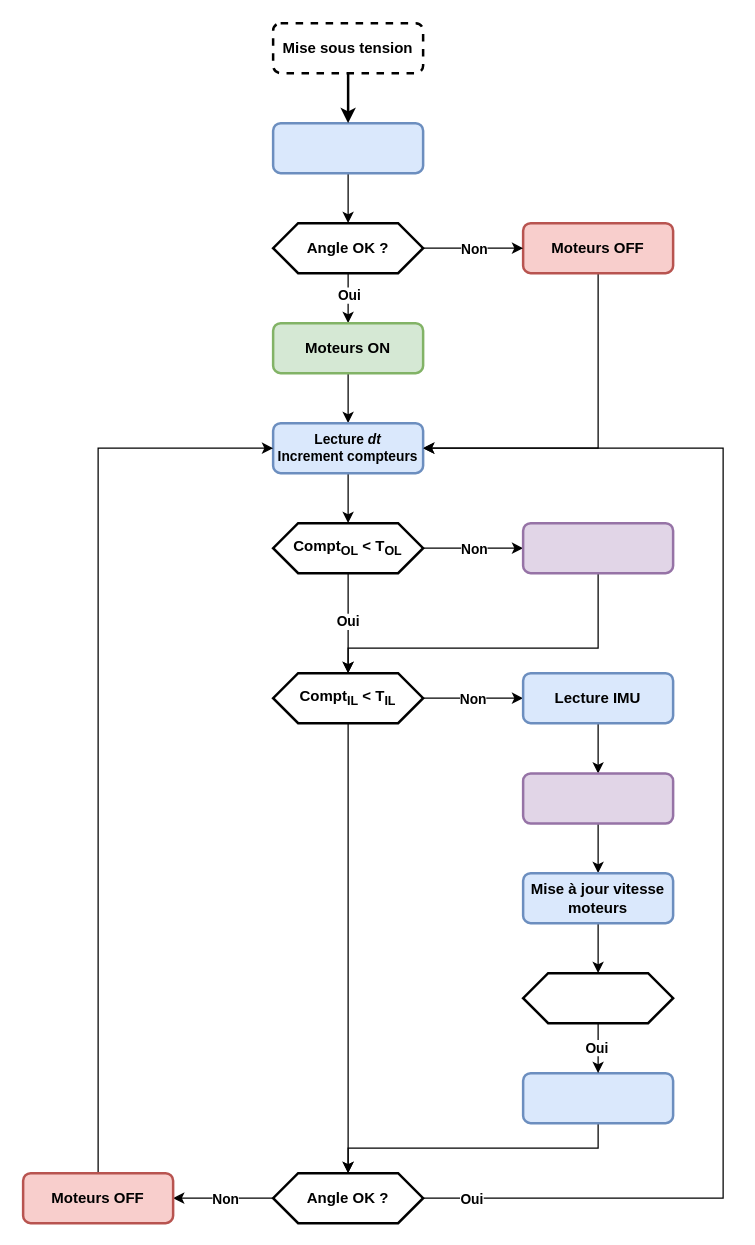
Some shapes in this 755 by 1245 pixel diagram are drawn without their labels. The shapes that lost their labels are listed below. From the top down, each one's centre as x and y in pixels, then its label:
At (x=347, y=147): "Initialisation (Drivers, IMU, GPIO's Wifi, WebSocket, LittleFS)".
At (x=597, y=547): "Execution PID Boucle Extérieur".
At (x=597, y=798): "Execution PID Boucle Intérieur".
At (x=597, y=997): "Enregistrement ?".
At (x=597, y=1097): "Sauvegarde de la mesure actuelle".
